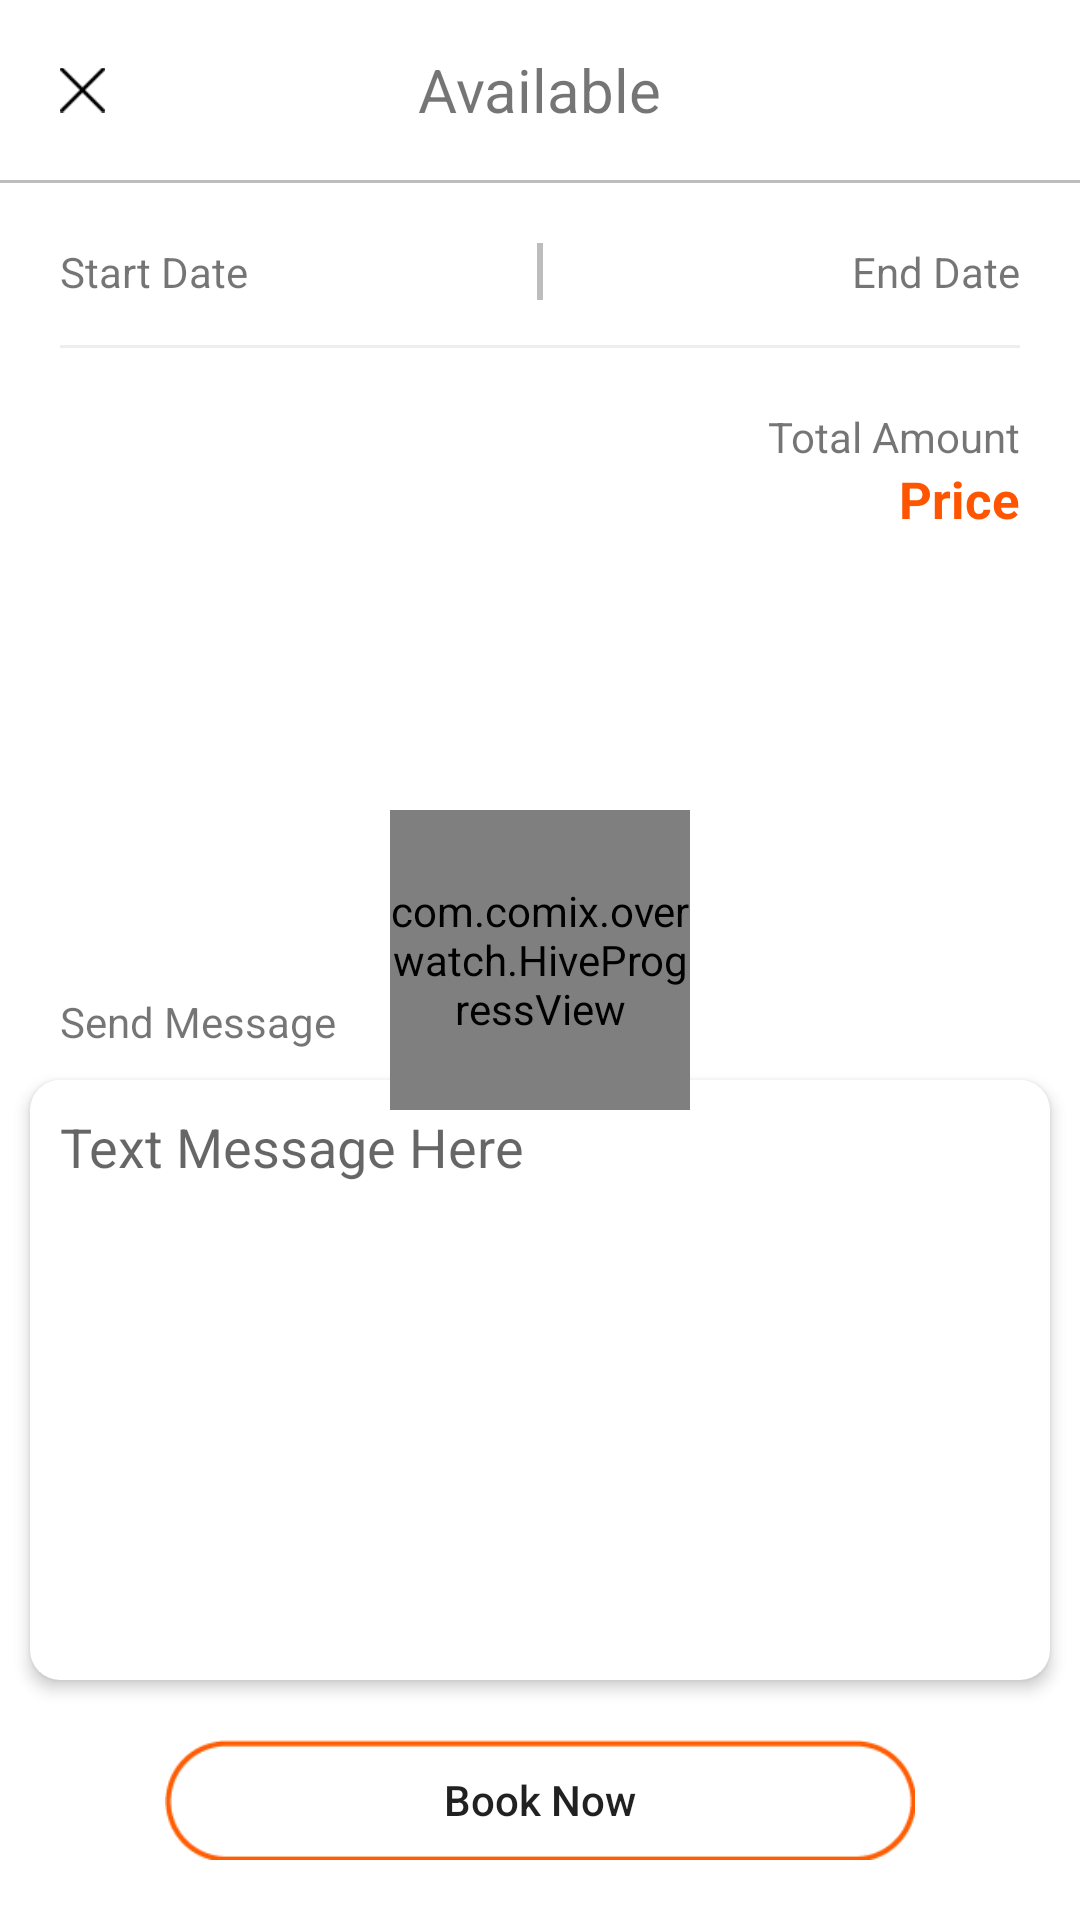

Locate icon controls on the screen. Image size 1080 × 1920, boxes as [x1, y1, x2, y2].
close: [60, 68, 105, 113]
